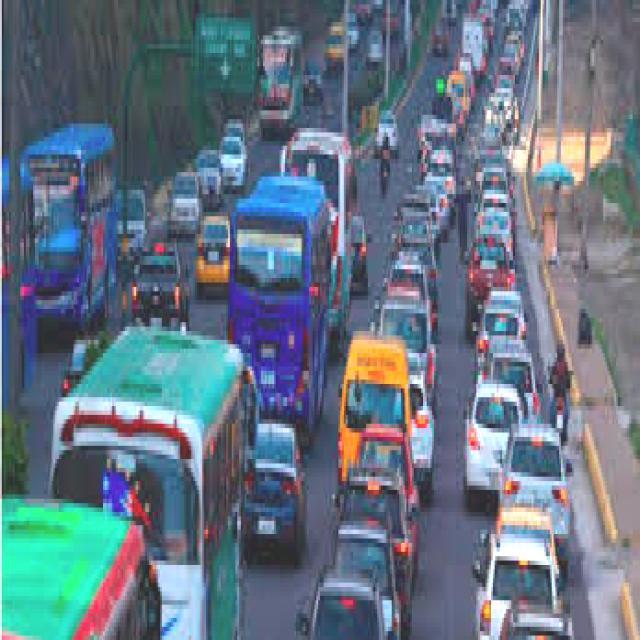BUS: (234, 179, 334, 446), (19, 128, 113, 336), (259, 32, 304, 136)
